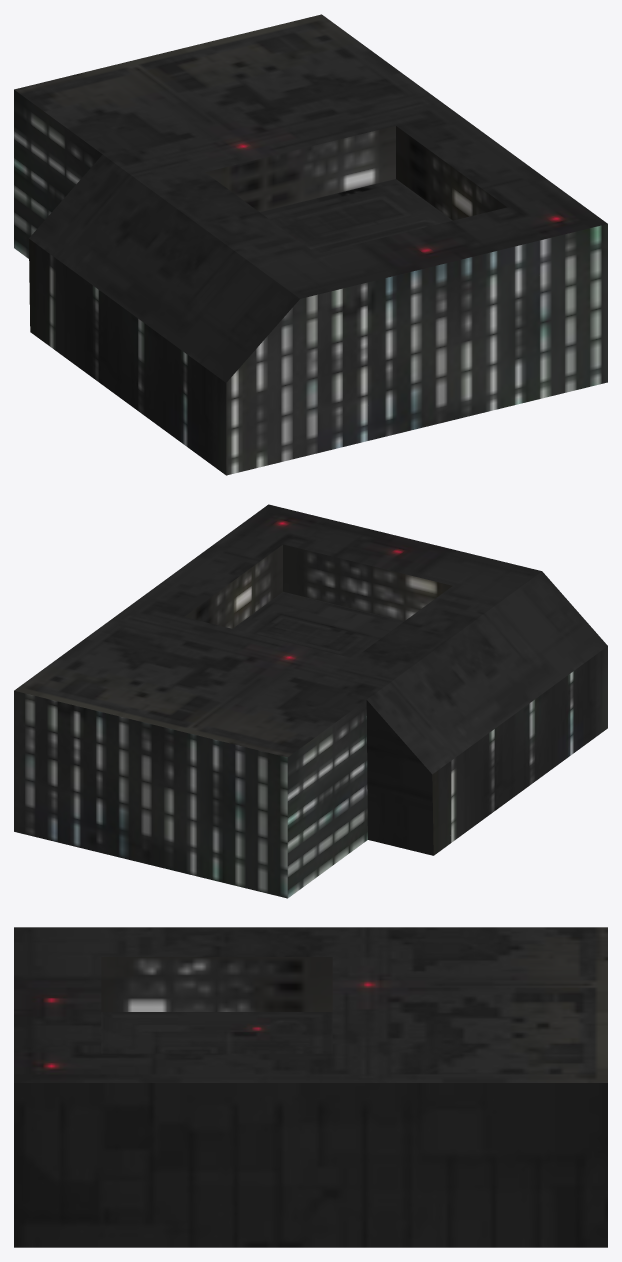
The model's file is scifi_building_17.obj.
3 views of the same model, one above another, from view 1: azimuth 30°, elevation 25°; view 2: azimuth 150°, elevation 25°; view 3: azimuth 270°, elevation 25° (orthographic). The views are drawn at different scales.
Parts seen in each view (by area): view 1: building_17; view 2: building_17; view 3: building_17.
Part boxes in pixels (x1,y1,x2,y2): building_17: [14, 14, 607, 475]; building_17: [14, 504, 607, 898]; building_17: [14, 927, 607, 1247].
Bounding box in the file's own units: 40.87 × 16.23 × 53.06.
Materials: 1 (1 with a texture image).
